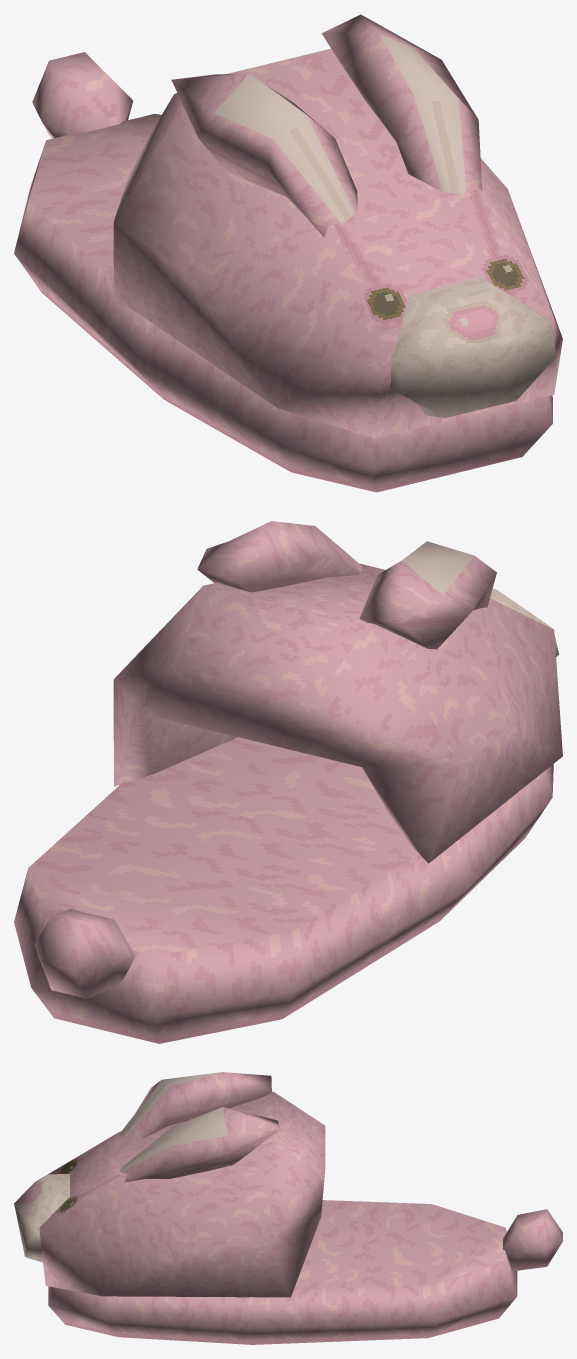
Rendered from 019b_Bunny_Slipper.glb.
The picture shows the model from 3 angles, top to bottom: view 1: azimuth 30°, elevation 25°; view 2: azimuth 150°, elevation 25°; view 3: azimuth 270°, elevation 25°; orthographic projection. The views are drawn at different scales.
Visible parts, largest first — view 1: part_0; view 2: part_0; view 3: part_0.
Boxes of the visible parts, box(x1,y1,x2,y2) form: part_0: box(14, 14, 562, 492); part_0: box(14, 521, 562, 1043); part_0: box(14, 1072, 562, 1344).
Bounding box in the file's own units: 0.1893 × 0.1748 × 0.4101.
1 material, 1 textured.
